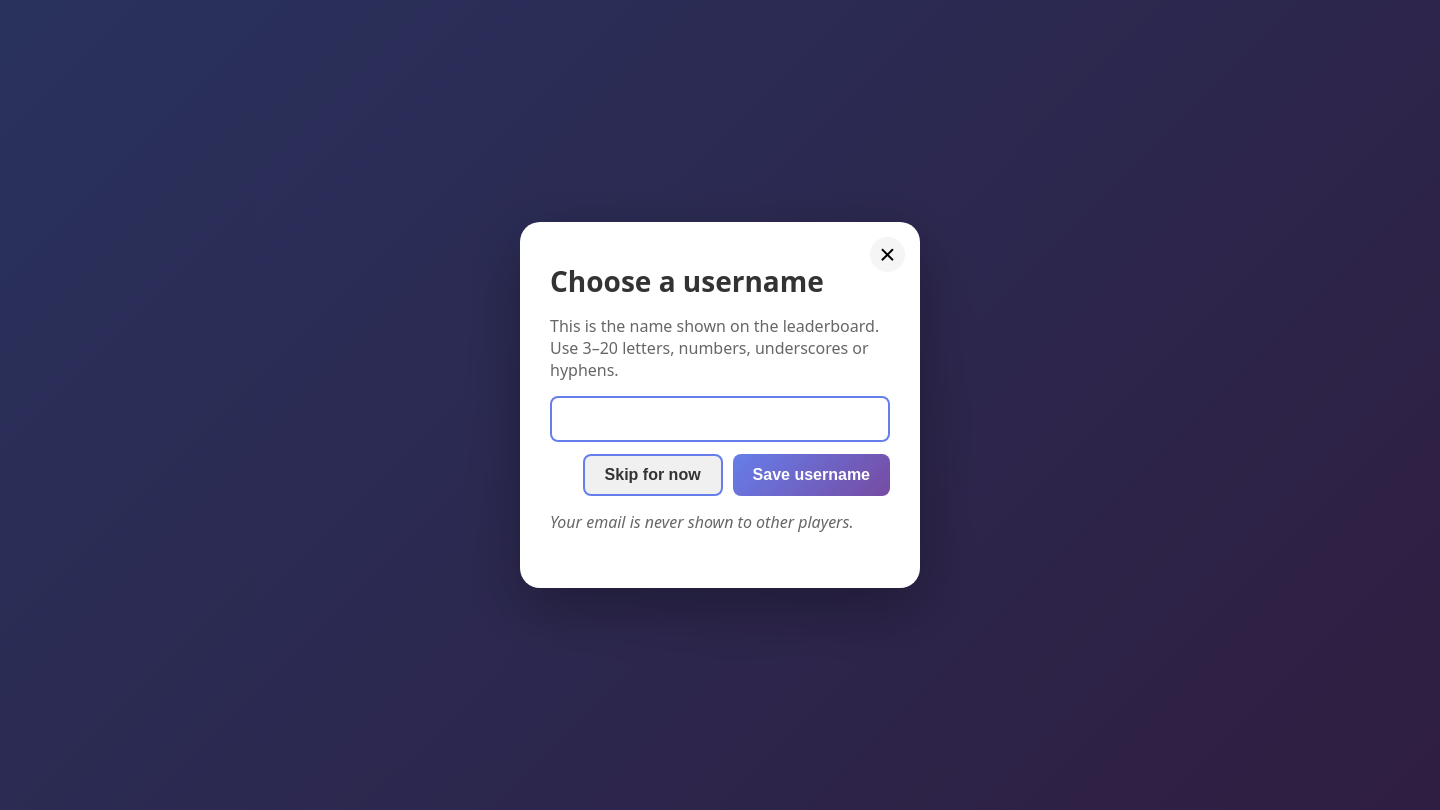
Scenario: UsernameModal › clears the previous error on the next attempt
Type "Ann_T" into the field named "Username" at (720, 419), box [550, 396, 890, 442]
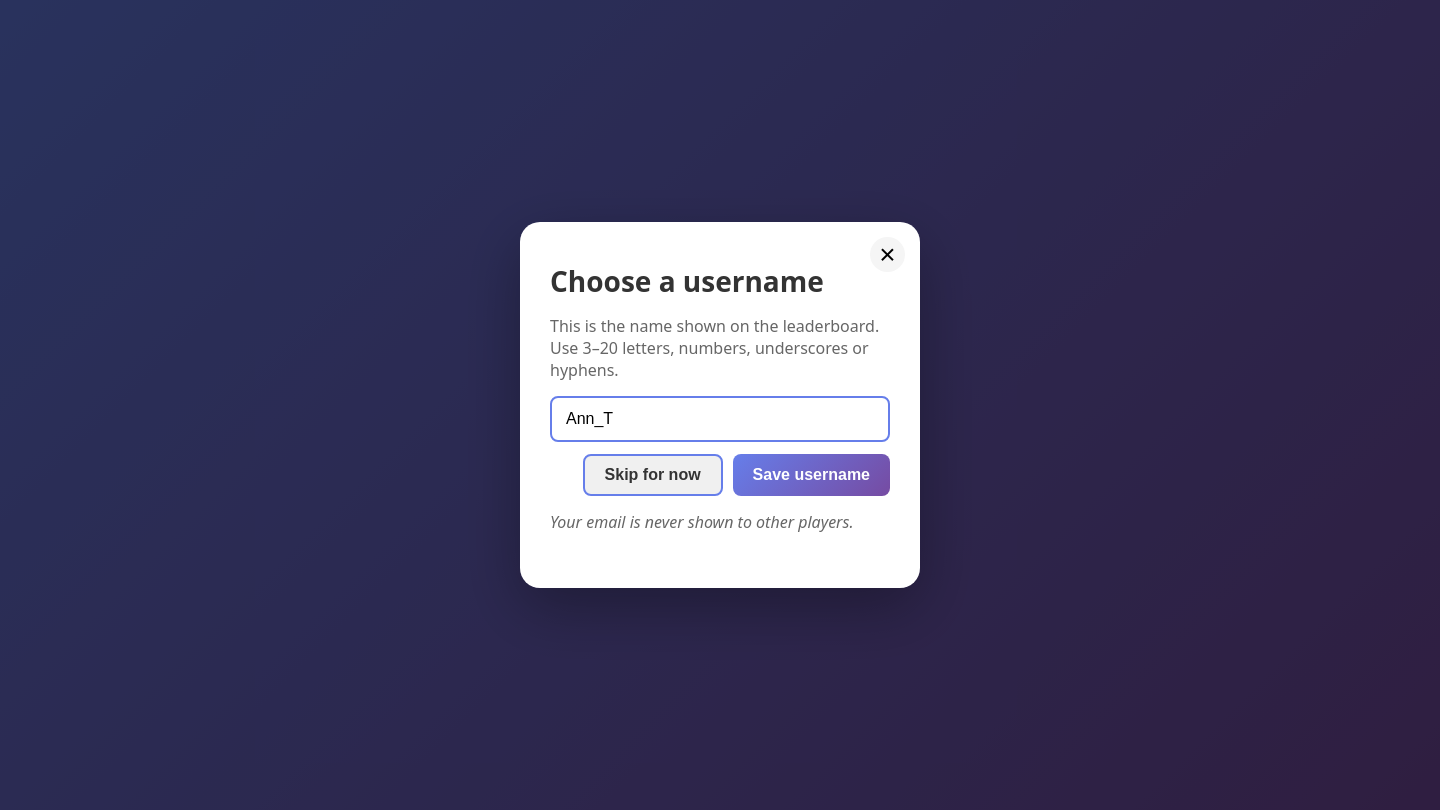
Click the button "Save username" at (811, 475), box [733, 454, 890, 496]
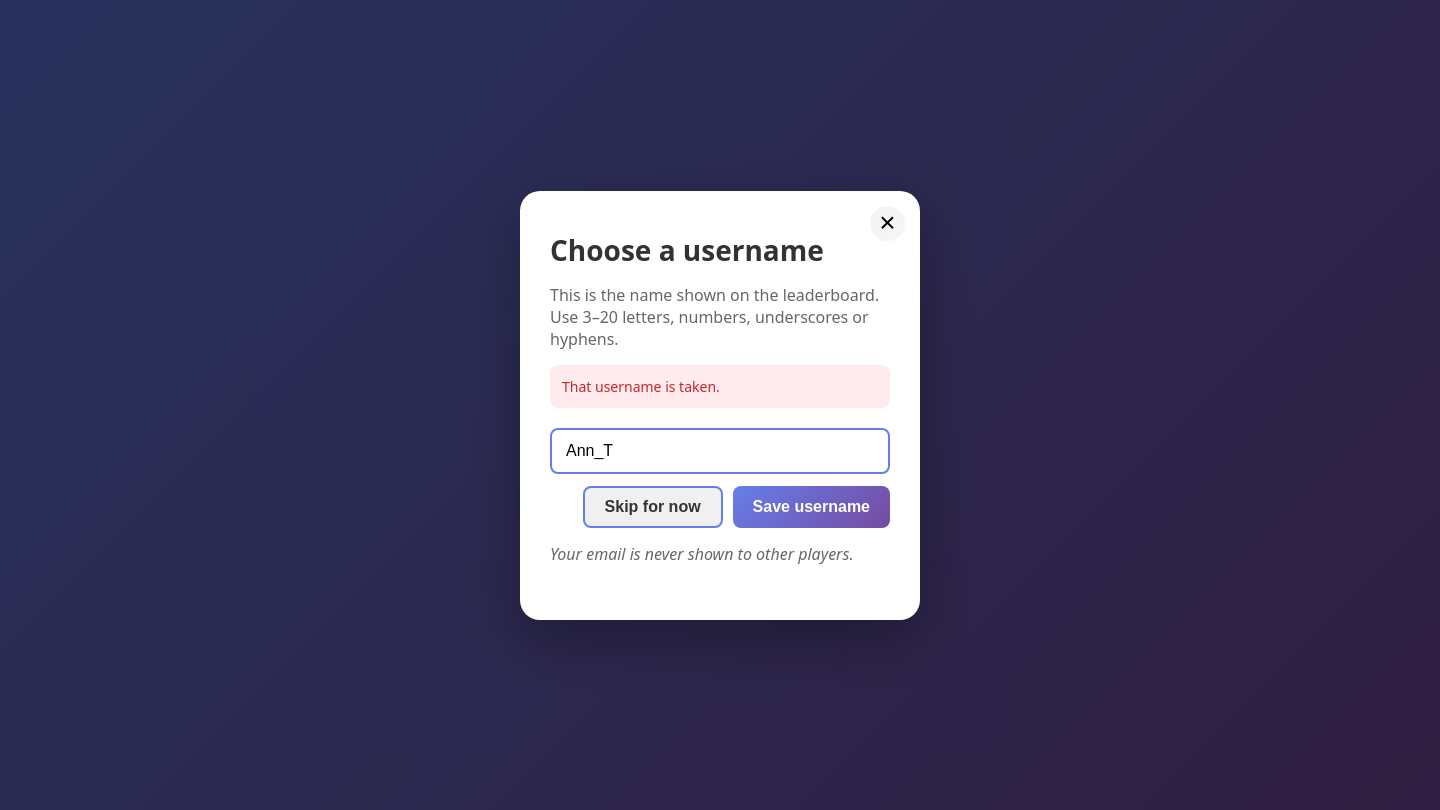
Click the button "Save username" at (811, 506), box [733, 486, 890, 528]
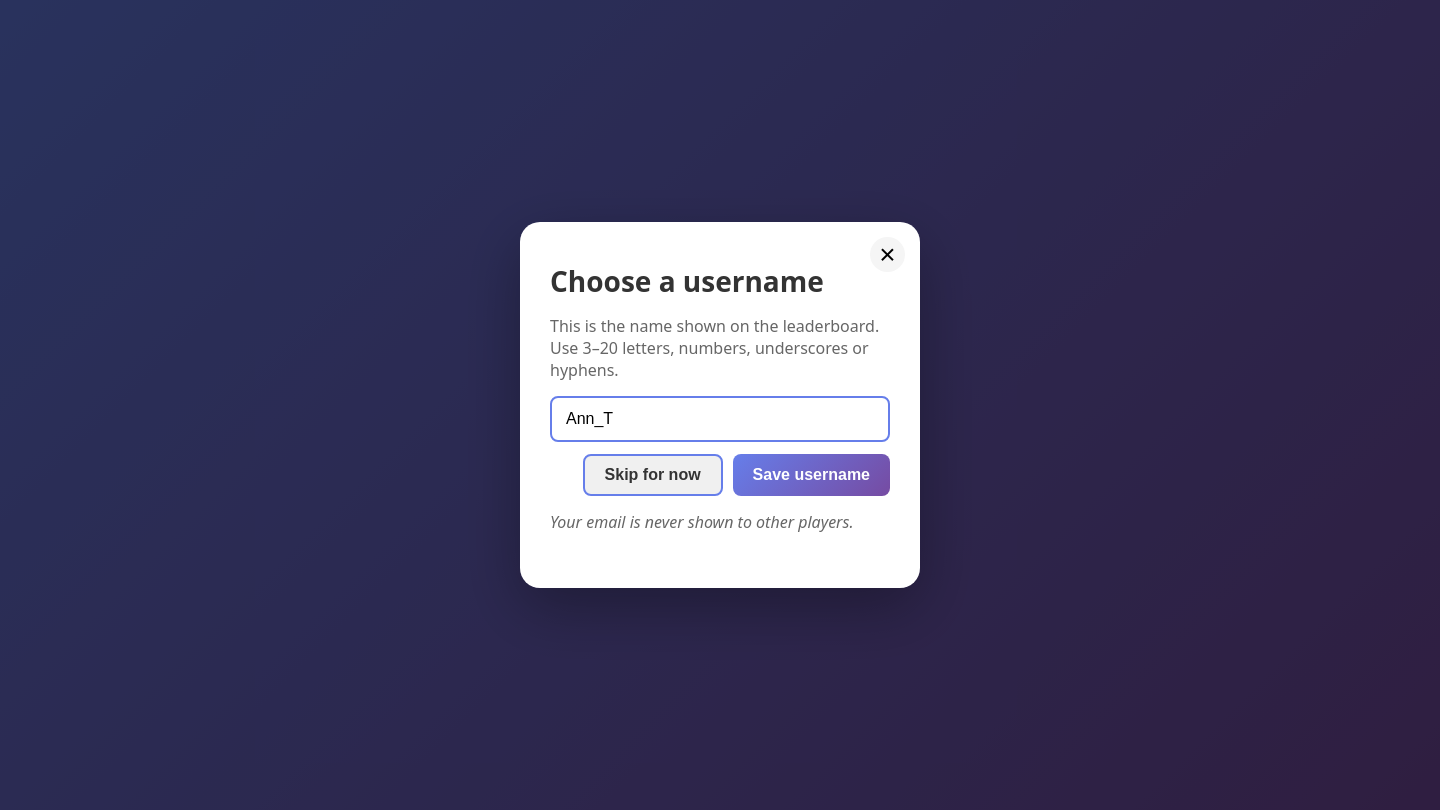
Expected: the message "That username is taken." is gone
